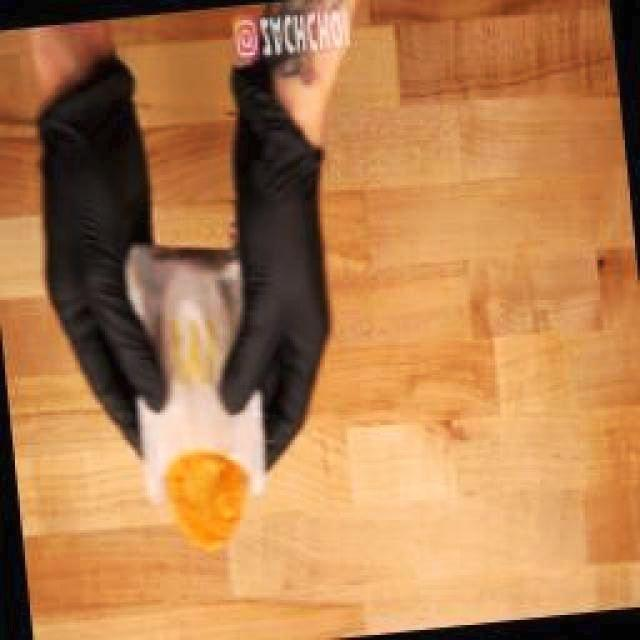Hashbrown: (168, 454, 246, 549)
